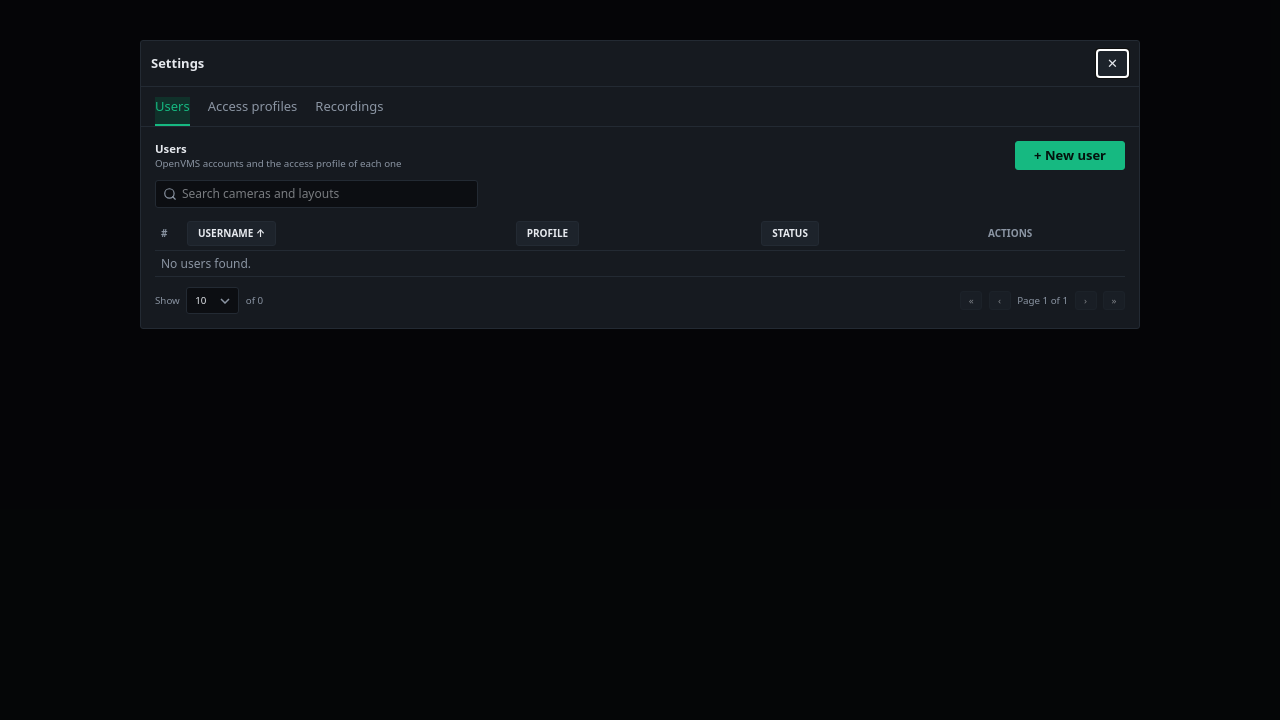
AdminModal (spec §12-F4) › the Recordings tab shows the global controls
Click the button "Recordings" at [349, 111], box [315, 97, 384, 126]
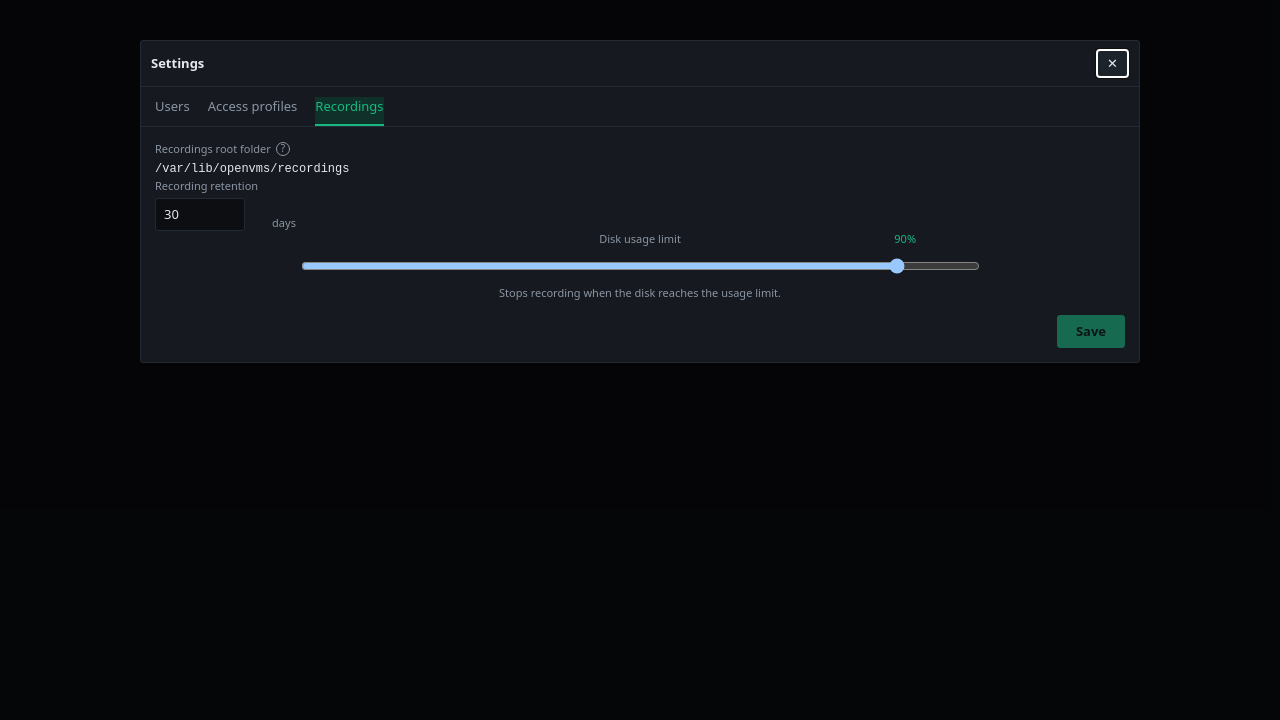
Expected: the text "Recordings root folder" is shown, [155, 141, 271, 156]
